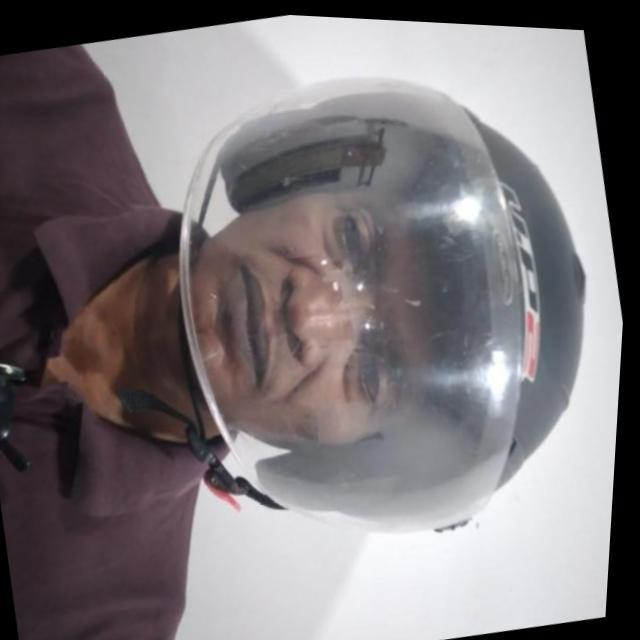with_helmet: (173, 87, 586, 533)
